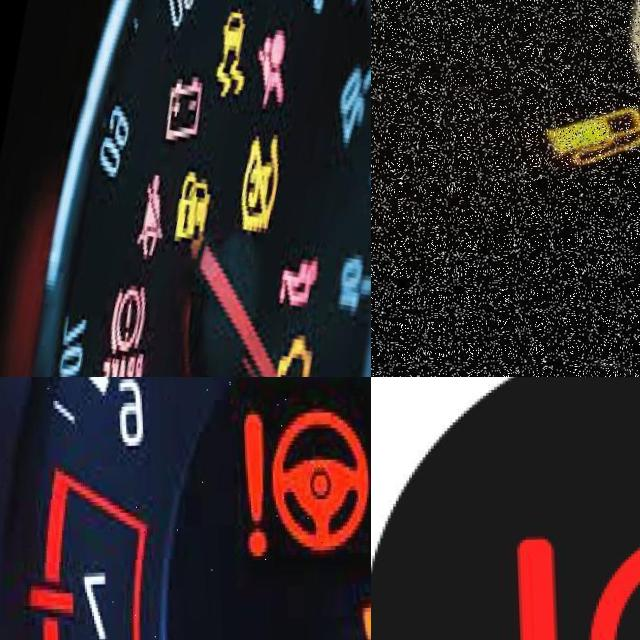Electronic Power Steering: (513, 518, 640, 640)
Electronic Power Steering Warning: (238, 408, 371, 560)
Seat Belt: (132, 173, 163, 256)
